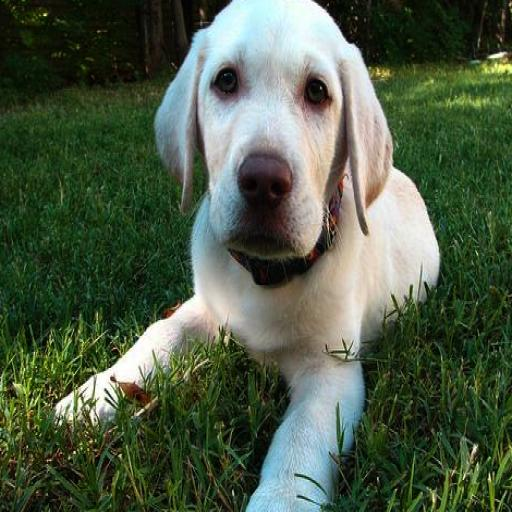dog_face: (151, 0, 381, 247)
